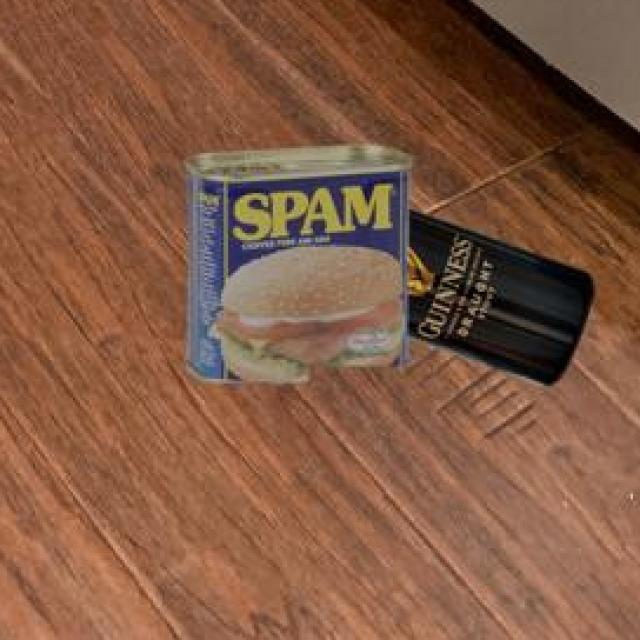logam: (182, 142, 408, 378), (404, 204, 589, 382)
